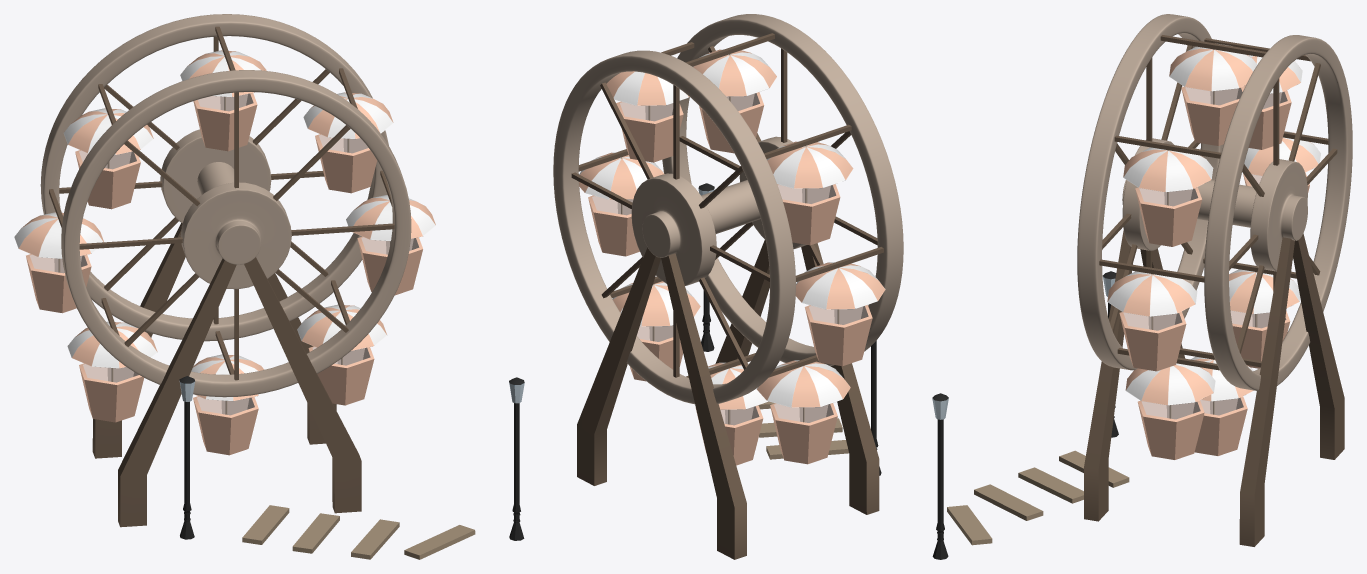
Rendered from tourism.glb.
3 views of the same model, side by side, from view 1: azimuth 30°, elevation 25°; view 2: azimuth 150°, elevation 25°; view 3: azimuth 270°, elevation 25° (orthographic). The views are drawn at different scales.
Parts seen in each view (by area): view 1: Wheel_geo, Cart_geo (×8), Legs_geo, Umbrella_geo (×8), Spools_geo, Light_Post_geo_07, Light_Post_geo_09, Wood_Plank_geo_011, Wood_Plank_geo_012, Wood_Plank_geo_013, Wood_Plank_geo_014; view 2: Wheel_geo, Legs_geo, Umbrella_geo (×8), Cart_geo (×8), Spools_geo, Light_Post_geo_07, Light_Post_geo_09, Wood_Plank_geo_014; view 3: Wheel_geo, Umbrella_geo (×8), Cart_geo (×7), Legs_geo, Spools_geo, Light_Post_geo_07, Wood_Plank_geo_012, Wood_Plank_geo_013, Wood_Plank_geo_011, Wood_Plank_geo_014.
Part boxes in pixels (<box>): Wheel_geo: <box>40,14,411,397</box>; Cart_geo (×8): <box>26,93,422,455</box>; Legs_geo: <box>92,223,361,527</box>; Umbrella_geo (×8): <box>14,50,435,414</box>; Spools_geo: <box>49,26,394,380</box>; Light_Post_geo_07: <box>509,377,524,540</box>; Light_Post_geo_09: <box>179,376,195,539</box>; Wood_Plank_geo_011: <box>404,525,475,559</box>; Wood_Plank_geo_012: <box>351,519,399,559</box>; Wood_Plank_geo_013: <box>292,513,339,553</box>; Wood_Plank_geo_014: <box>242,505,289,544</box>; Wheel_geo: <box>553,14,903,404</box>; Legs_geo: <box>577,240,879,559</box>; Umbrella_geo (×8): <box>579,49,885,424</box>; Cart_geo (×8): <box>588,92,872,465</box>; Spools_geo: <box>571,33,883,377</box>; Light_Post_geo_07: <box>698,183,714,351</box>; Light_Post_geo_09: <box>871,341,881,475</box>; Wood_Plank_geo_014: <box>766,440,848,459</box>; Wheel_geo: <box>1077,14,1352,390</box>; Umbrella_geo (×8): <box>1107,43,1320,418</box>; Cart_geo (×7): <box>1119,86,1291,459</box>; Legs_geo: <box>1084,230,1344,546</box>; Spools_geo: <box>1099,35,1337,370</box>; Light_Post_geo_07: <box>932,393,948,559</box>; Wood_Plank_geo_012: <box>974,484,1043,520</box>; Wood_Plank_geo_013: <box>1018,467,1083,503</box>; Wood_Plank_geo_011: <box>947,505,992,545</box>; Wood_Plank_geo_014: <box>1059,450,1129,487</box>.
Size of the model in its own units: 6.88 by 8.18 by 7.03.
Materials: 25 (19 with a texture image).
